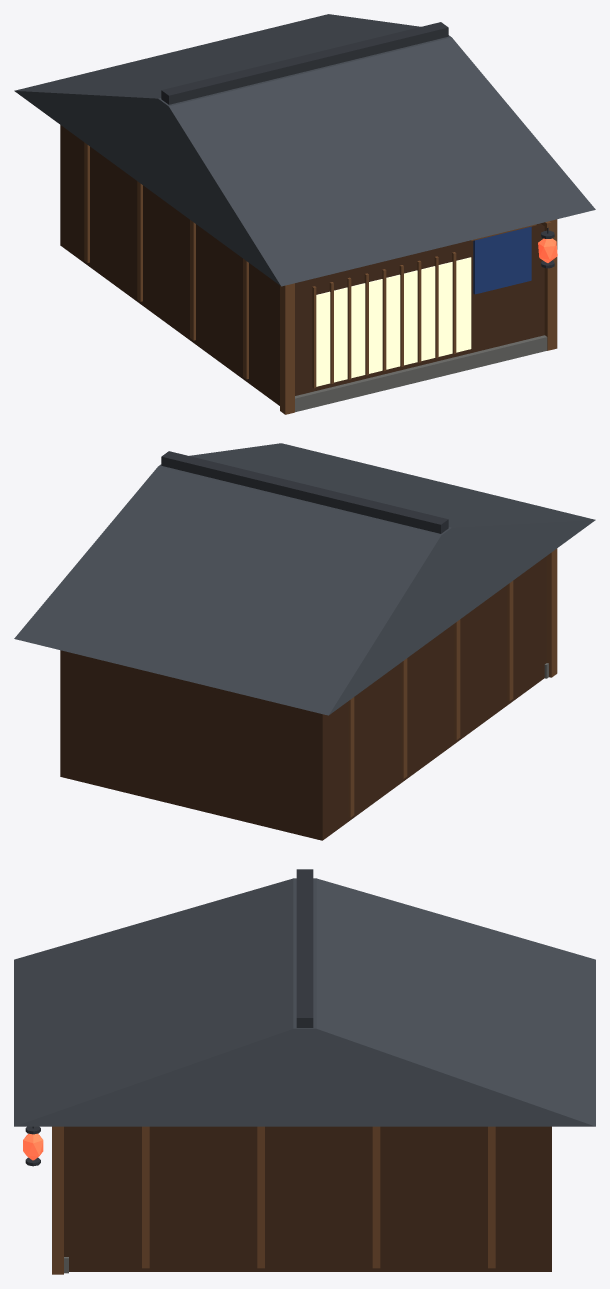
File: machiya_3.glb
3 renders of one model, top to bottom at view 1: azimuth 30°, elevation 25°; view 2: azimuth 150°, elevation 25°; view 3: azimuth 270°, elevation 25°, orthographic. The views are drawn at different scales.
Visible parts, largest first — view 1: machiya_3; view 2: machiya_3; view 3: machiya_3.
Boxes of the visible parts, x1,y1,x2,y2 form: machiya_3: [14, 14, 595, 414]; machiya_3: [14, 443, 595, 840]; machiya_3: [14, 869, 595, 1274].
Bounding box in the file's own units: 7.2 × 5.2 × 10.6.
